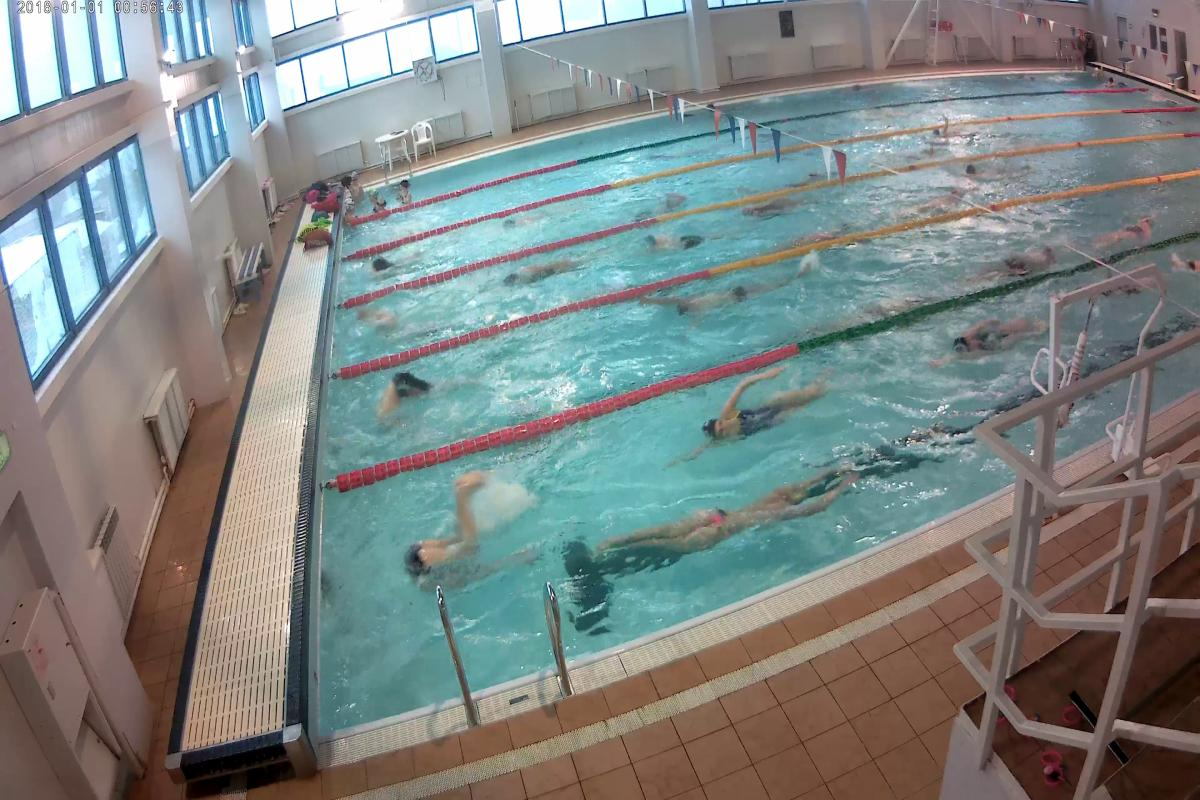swimmer: (620, 458, 860, 560), (403, 470, 509, 591), (692, 366, 836, 451), (942, 304, 1046, 363), (661, 277, 801, 320), (366, 366, 433, 434), (503, 250, 592, 292), (1104, 203, 1168, 243), (739, 191, 817, 222), (639, 226, 714, 255)
